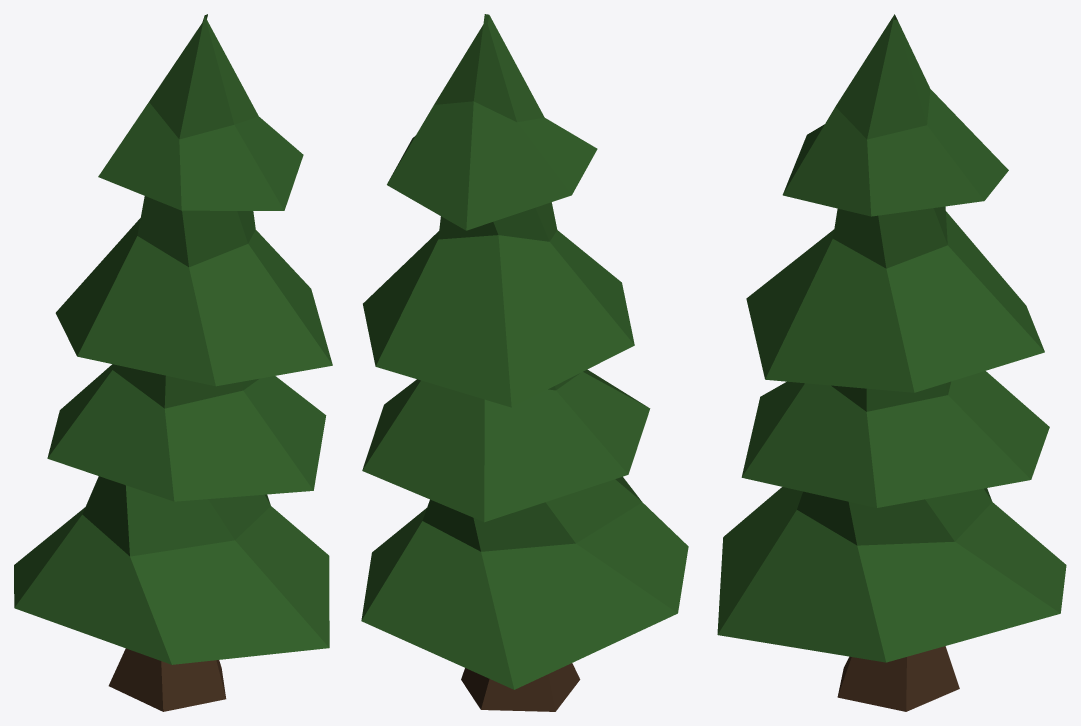
The model's file is snowtree.mtl.obj.
The picture shows the model from 3 angles, left to right: view 1: azimuth 30°, elevation 25°; view 2: azimuth 150°, elevation 25°; view 3: azimuth 270°, elevation 25°; orthographic projection. The views are drawn at different scales.
Parts seen in each view (by area): view 1: SpruceTree3_Cylinder.015; view 2: SpruceTree3_Cylinder.015; view 3: SpruceTree3_Cylinder.015.
Part boxes in pixels (x1=…): SpruceTree3_Cylinder.015: x1=14, y1=14, x2=332, y2=711; SpruceTree3_Cylinder.015: x1=361, y1=14, x2=688, y2=711; SpruceTree3_Cylinder.015: x1=717, y1=14, x2=1066, y2=711.
Bounding box in the file's own units: 6.62 × 13.55 × 6.24.
Materials: 2 (2 with a texture image).
